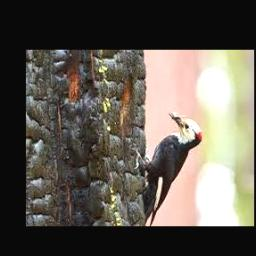Woodpecker: (132, 110, 201, 226)
